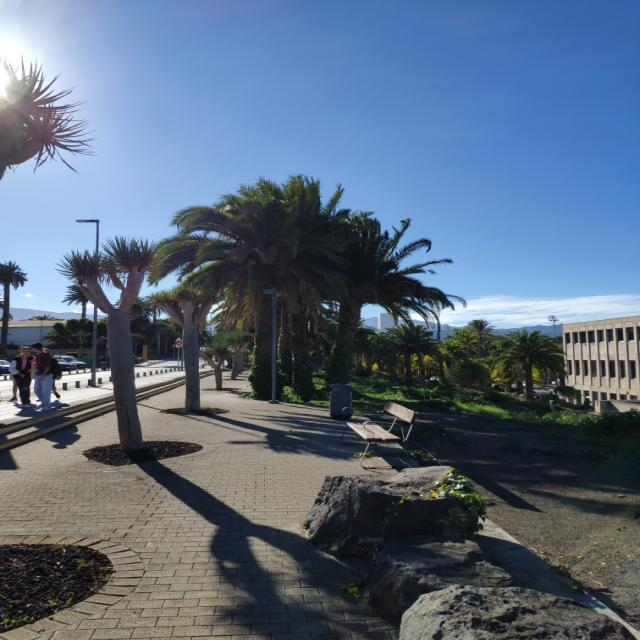Palm-Trees: (172, 192, 355, 397), (287, 209, 441, 386), (502, 328, 557, 398)
